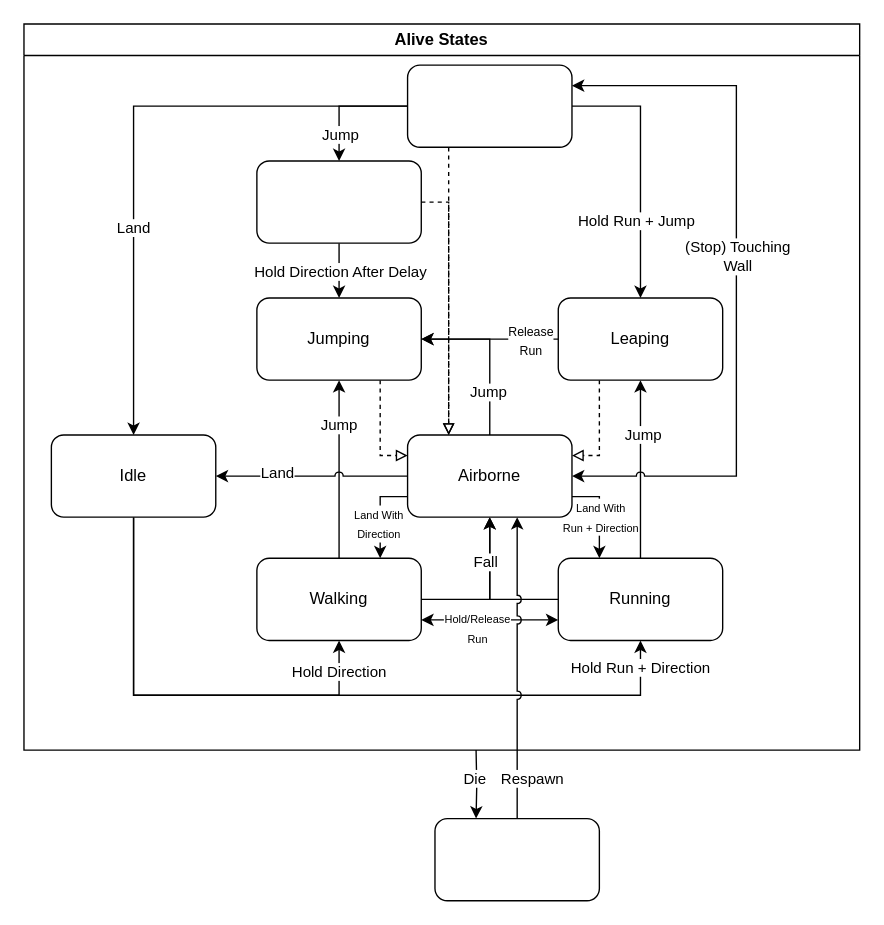
Some shapes in this 884 by 925 pixel diagram are drawn without their labels. Each missing label, with the centre of its shape:
"Clinging" belongs at pixel 489 105.
"Dead" belongs at pixel 516 859.
"Wall Jumping" belongs at pixel 338 201.
